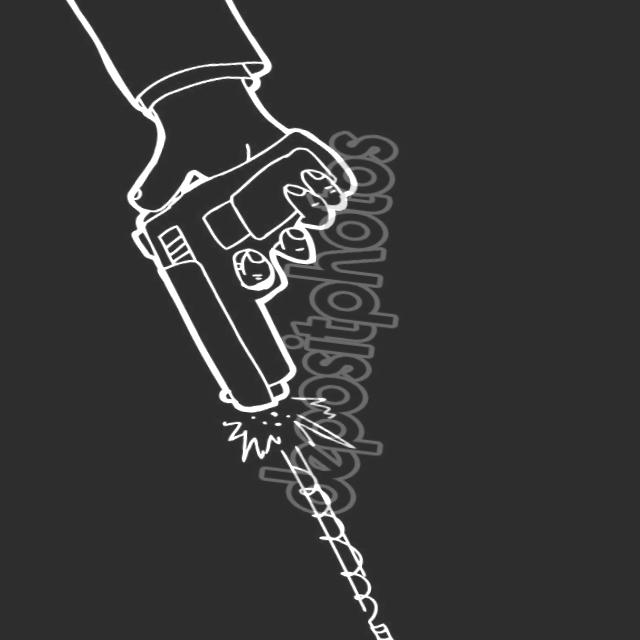handgun: (104, 103, 382, 425)
